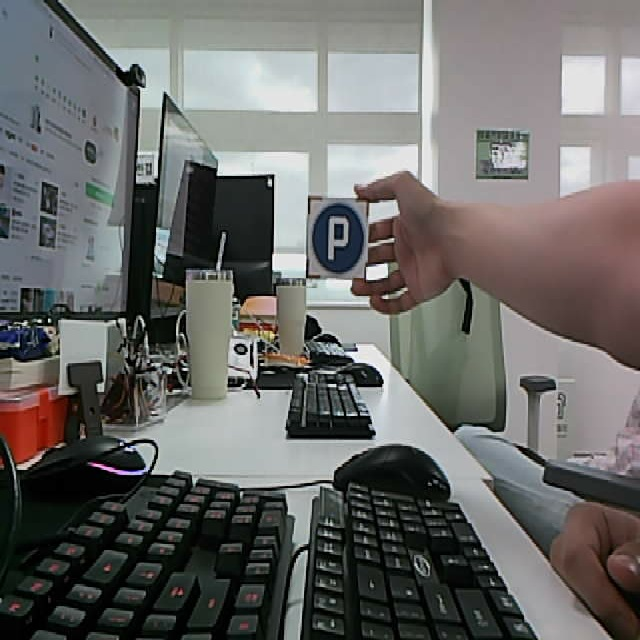parking: (303, 193, 370, 280)
